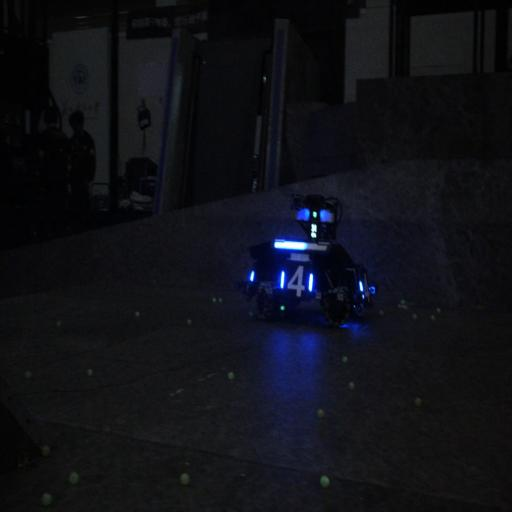target: (278, 256, 316, 305), (355, 269, 373, 314)
